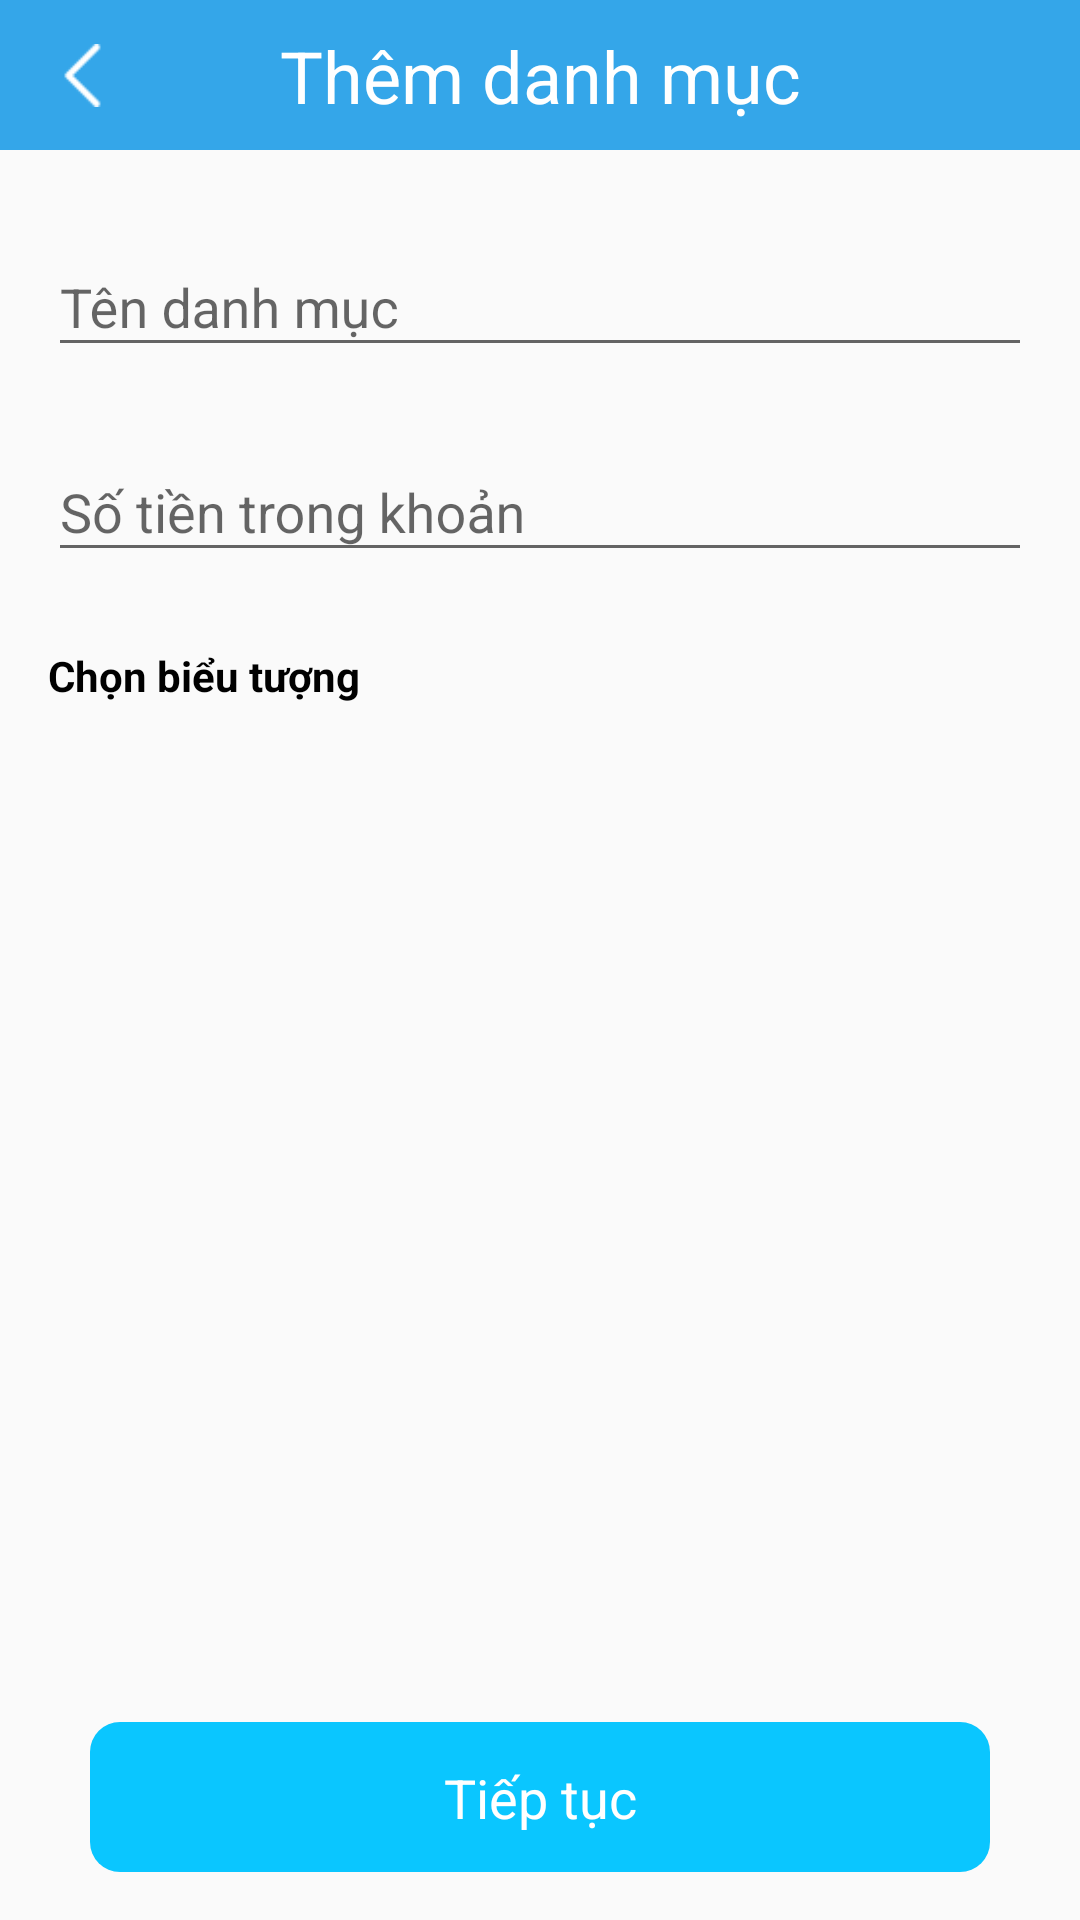

Named icons in this screenshot (1080*1920) and their centers, (x,y):
back: (82,75)
